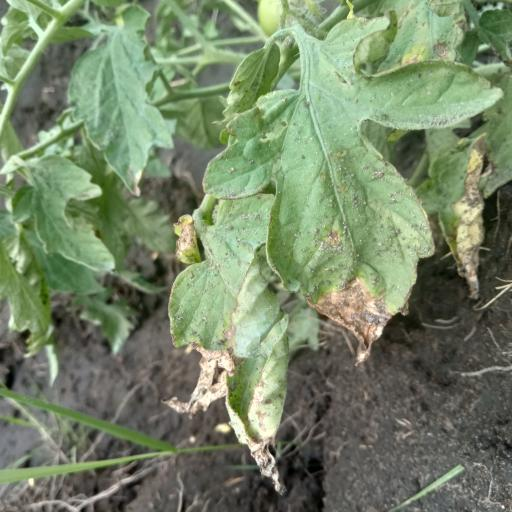Tomato_Brown_Spots: (206, 20, 502, 361)
